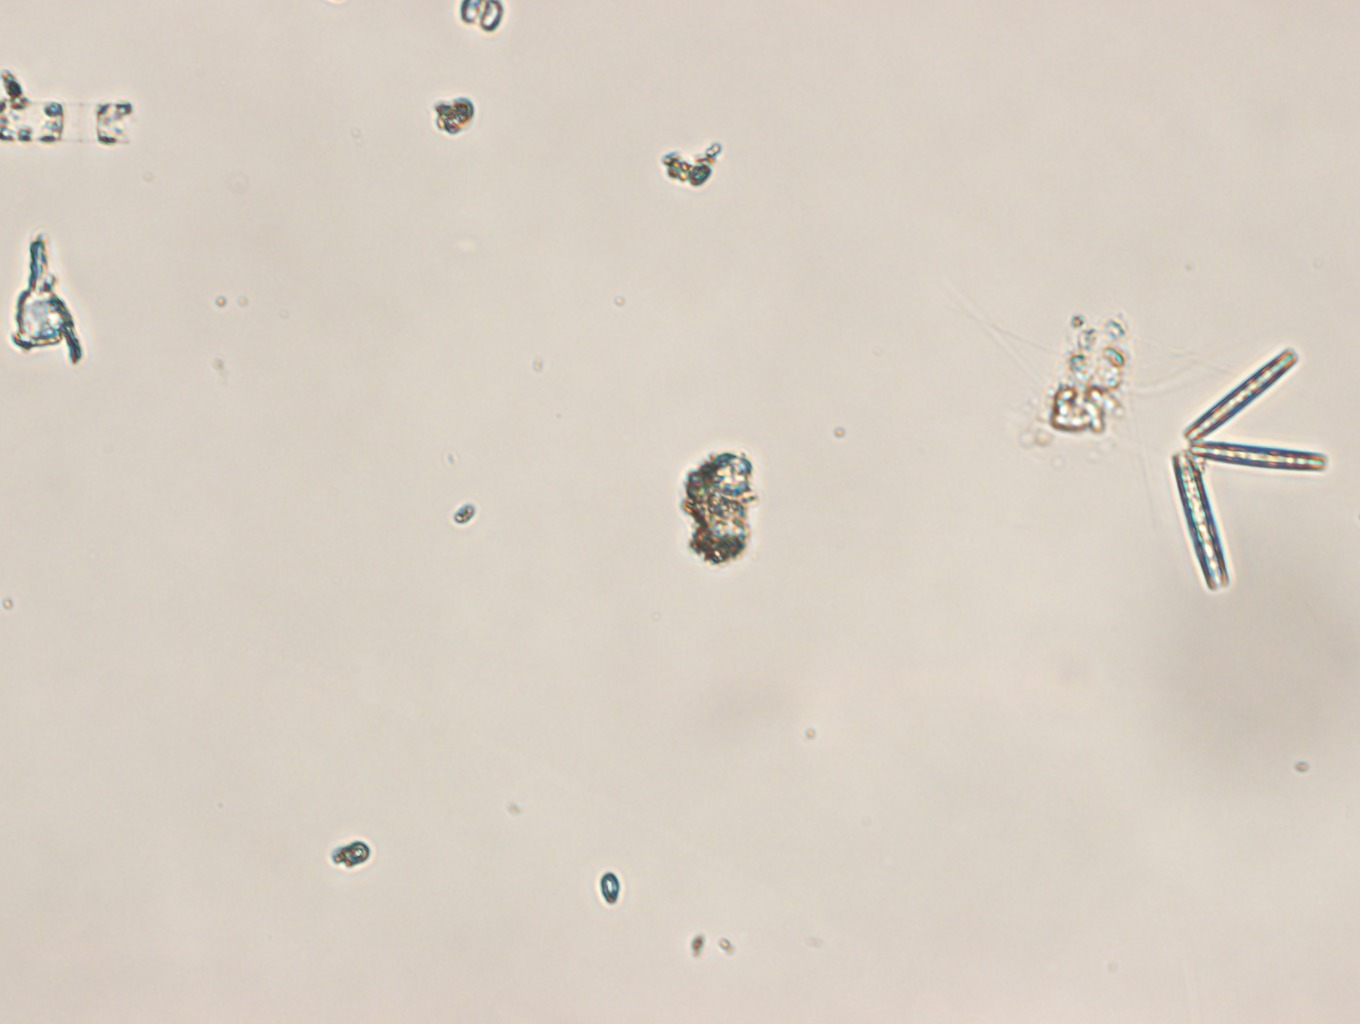skeletonema: (1, 98, 135, 143)
thalassionema nitzschioides: (1170, 344, 1326, 592)
